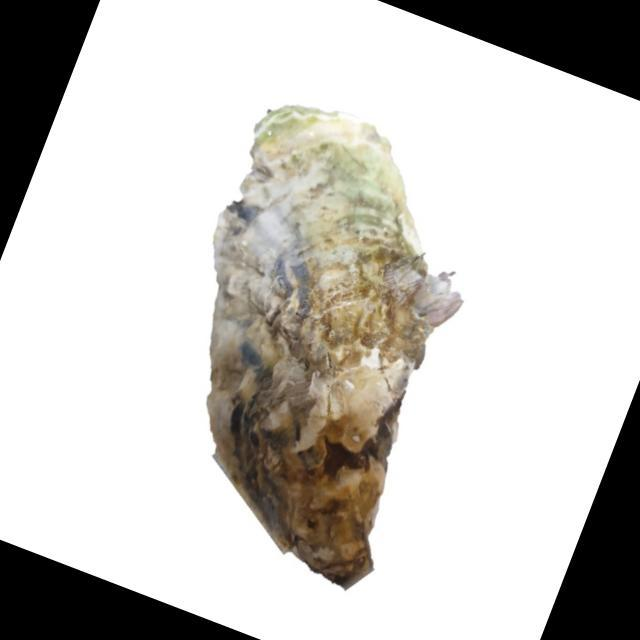Oyster- Indeterminate: (204, 106, 464, 592)
